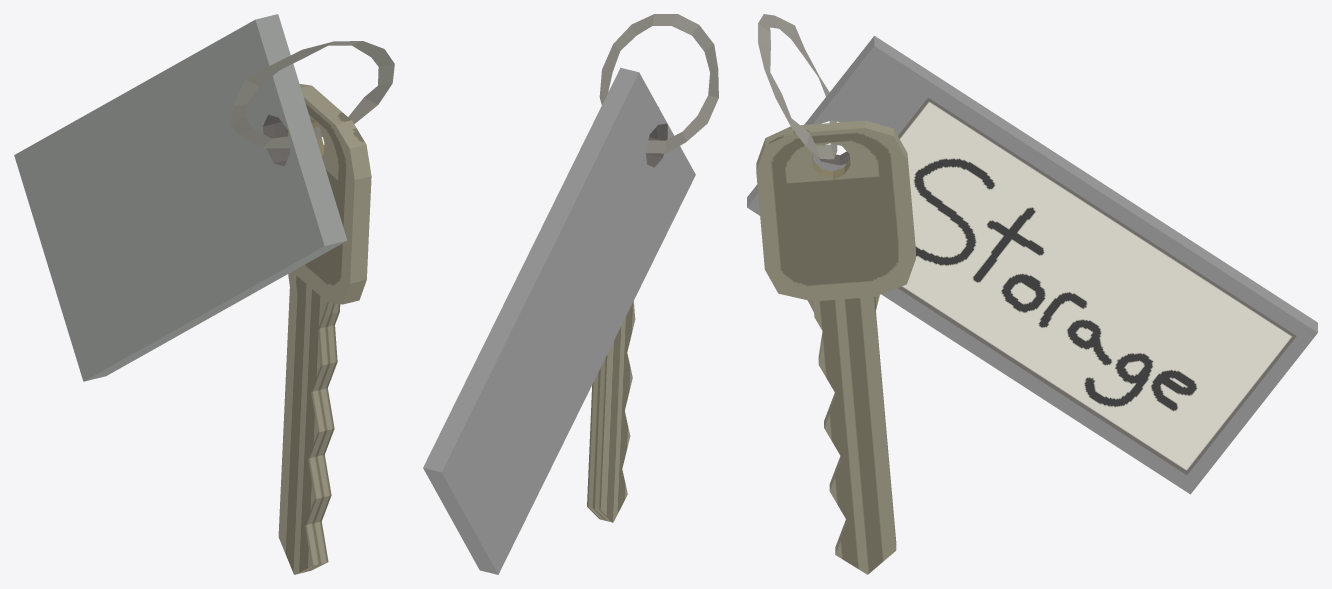
Rendered from keyRing.glb.
3 views of the same model, side by side, from view 1: azimuth 30°, elevation 25°; view 2: azimuth 150°, elevation 25°; view 3: azimuth 270°, elevation 25° (orthographic). The views are drawn at different scales.
Visible parts, largest first — view 1: keyRing; view 2: keyRing; view 3: keyRing.
Boxes of the visible parts, x1,y1,x2,y2 form: keyRing: [14, 14, 394, 574]; keyRing: [423, 14, 718, 574]; keyRing: [747, 14, 1317, 574].
Bounding box in the file's own units: 0.023 × 0.0845 × 0.0817.
2 materials, 2 textured.
